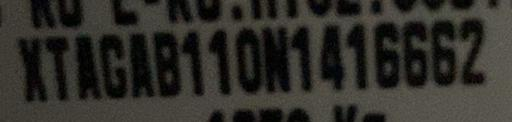letter: (14, 33, 50, 104), (398, 18, 434, 88), (204, 27, 238, 101), (368, 17, 402, 89), (316, 20, 350, 92), (149, 29, 185, 97), (96, 31, 130, 101), (42, 32, 76, 102), (125, 29, 159, 97), (459, 15, 491, 87), (232, 24, 264, 96), (176, 27, 208, 99), (70, 31, 104, 98), (430, 17, 460, 90), (260, 24, 292, 92), (286, 22, 316, 92), (345, 21, 369, 93)
